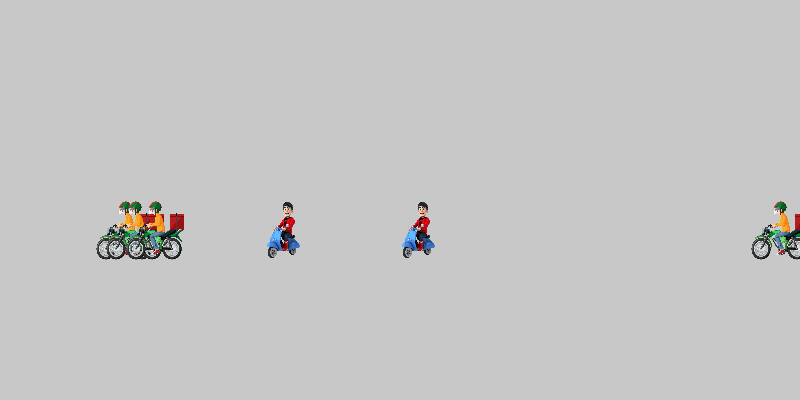helmet: (95, 200, 155, 260), (105, 200, 165, 260), (125, 200, 185, 260), (750, 200, 800, 260)
no_helmet: (255, 200, 315, 260), (390, 200, 450, 260)
